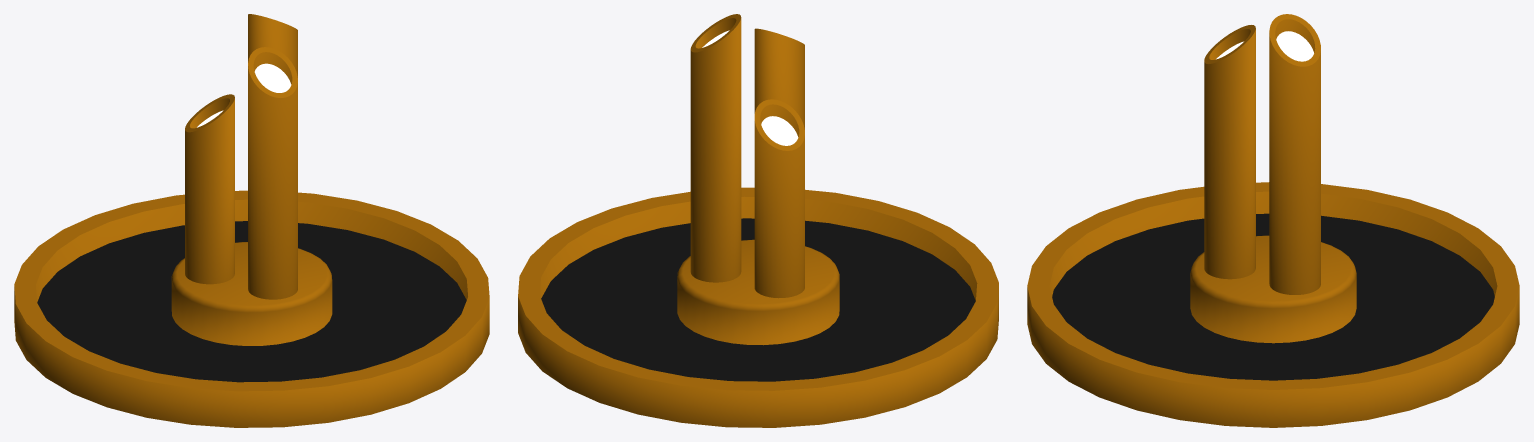
File: Feature Pool.fbx
3 views of the same model, side by side, from view 1: azimuth 30°, elevation 25°; view 2: azimuth 150°, elevation 25°; view 3: azimuth 270°, elevation 25° (orthographic). The views are drawn at different scales.
Parts seen in each view (by area): view 1: Feature Pool; view 2: Feature Pool; view 3: Feature Pool.
Boxes of the visible parts, <box> form: Feature Pool: <box>14,14,489,427</box>; Feature Pool: <box>518,14,998,427</box>; Feature Pool: <box>1027,14,1519,427</box>.
Size of the model in its own units: 364 by 257 by 364.
